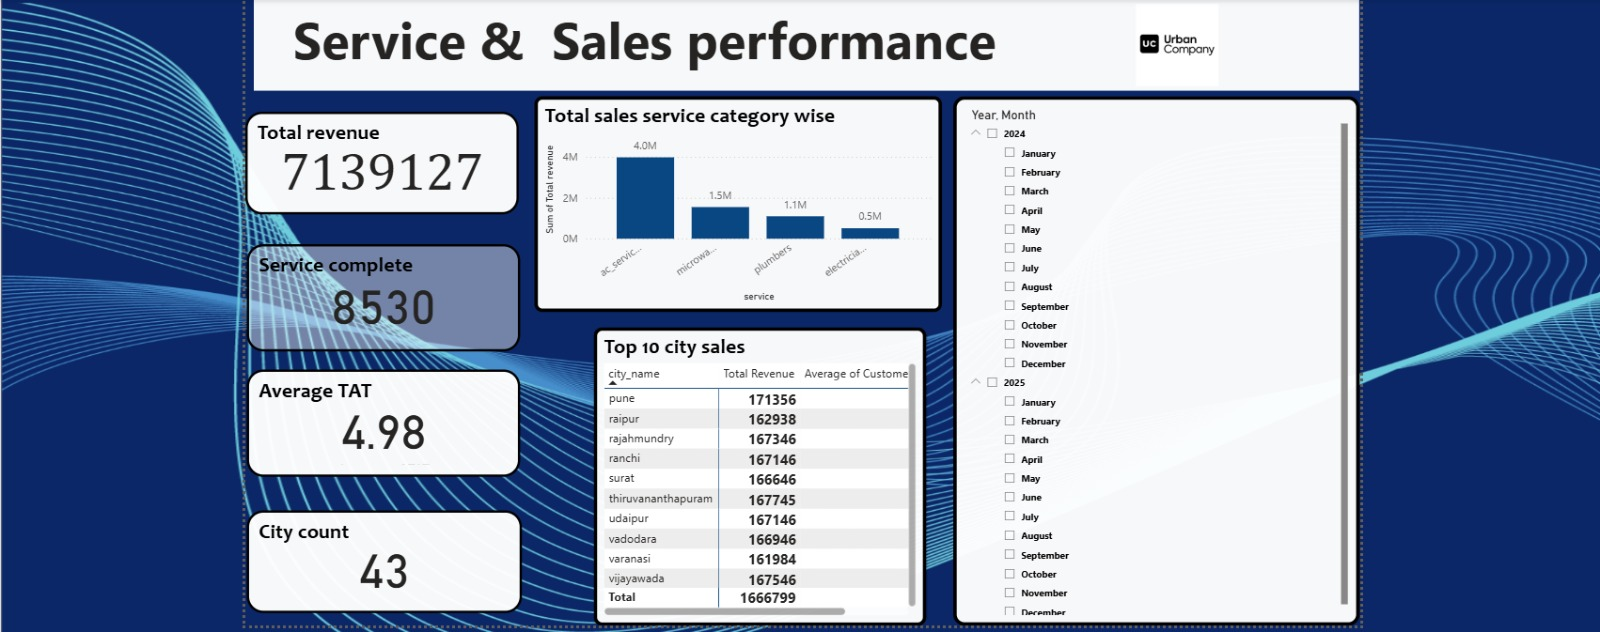

Layout of this report page (visuals, bound fields, positions):
{"tool":"powerbi","page":{"name":"Page 1","canvas":[1280,720],"ordinal":0},"visuals":[{"type":"textbox","box":[9.7,0,1269.5,105.2],"z":0},{"type":"image","box":[861.4,0,417.8,105.2],"z":1000},{"type":"card","title":"Total revenue","fields":{"Values":["Sum(uc1.Total charges)"]},"box":[0,129.5,314.1,118.2],"z":2000},{"type":"card","title":"Service complete","fields":{"Values":["CountNonNull(uc1.service)"]},"box":[1.6,281.7,314.1,123.1],"z":3000},{"type":"card","title":"Average TAT","fields":{"Values":["Avg(uc1.TAT (2 DAYS))"]},"box":[1.6,425.9,314.1,123.1],"z":4000},{"type":"card","title":"City count","fields":{"Values":["Count(uc1.city_name)"]},"box":[1.6,587.8,315.7,118.2],"z":5000},{"type":"columnChart","title":"Total sales service category wise","fields":{"Category":["uc1.service"],"Y":["Sum(uc1.Total revenue)"]},"box":[331.9,111.7,468,247.7],"z":6000},{"type":"pivotTable","title":"Top 10 city sales","fields":{"Rows":["uc1.city_name"],"Values":["Sum(uc1.Total revenue)","Avg(uc1.Customer rateing)"]},"box":[399.9,377.3,382.1,343.3],"z":7000},{"type":"slicer","fields":{"Values":["uc1.service book date.Variation.Date Hierarchy.Year","uc1.service book date.Variation.Date Hierarchy.Month"]},"box":[812.9,111.7,466.3,608.8],"z":8000}]}

Visuals, with their boxes in screenshot pixels (x1, y1, x2, y2):
textbox: 250, 0, 1351, 87
image: 989, 0, 1351, 87
"Total revenue" card: 242, 108, 514, 211
"Service complete" card: 243, 240, 516, 347
"Average TAT" card: 243, 365, 516, 472
"City count" card: 243, 506, 517, 608
"Total sales service category wise" columnChart: 530, 93, 936, 308
"Top 10 city sales" pivotTable: 589, 323, 920, 621
slicer - uc1.service book date.Variation.Date Hierarchy.Year x uc1.service book date.Variation.Date Hierarchy.Month: 947, 93, 1351, 621
